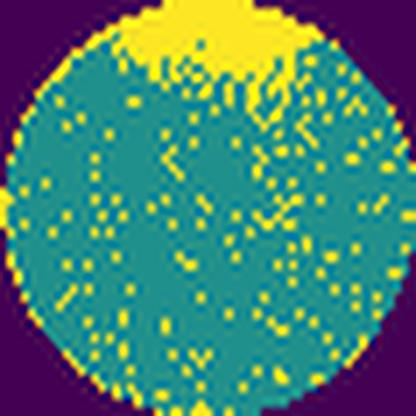Edge-Loc: (105, 0, 325, 108)
